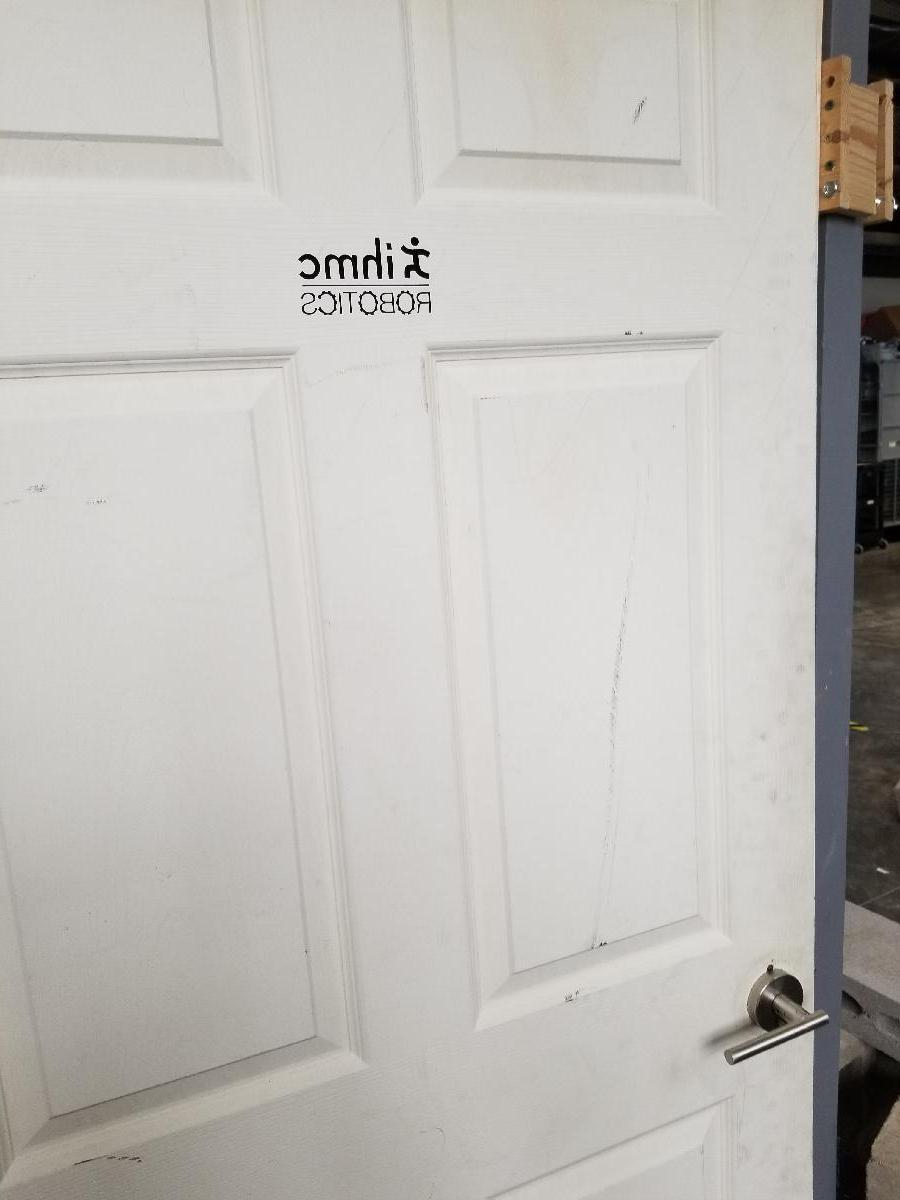door: (8, 10, 811, 1187)
handle: (722, 963, 816, 1065)
